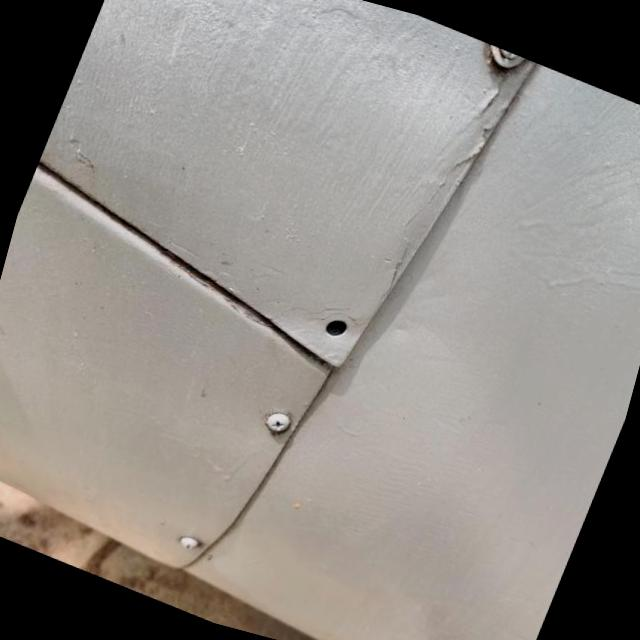Missing Fastener: (326, 316, 350, 338)
